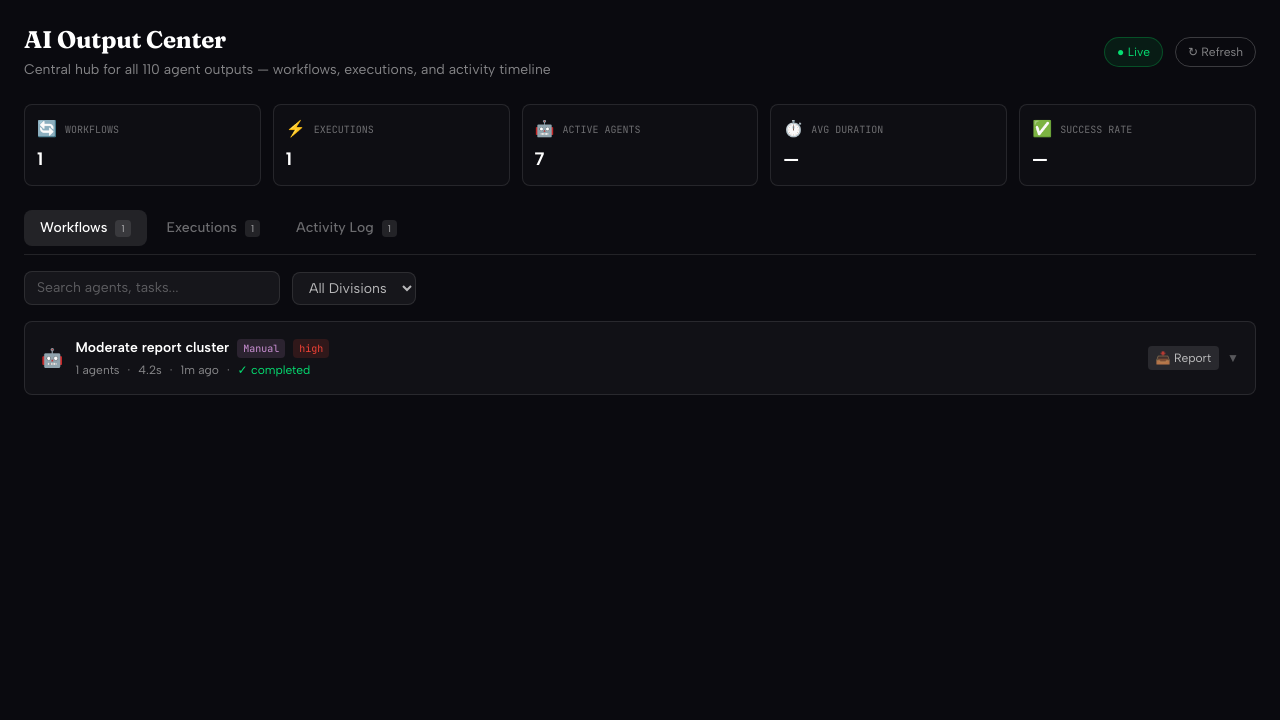
AgentOutputPage (AI Output Center) › expands a workflow to reveal classification, agents and LLM analysis
Click the text "Moderate report cluster" at (152, 348), box [76,338,229,358]
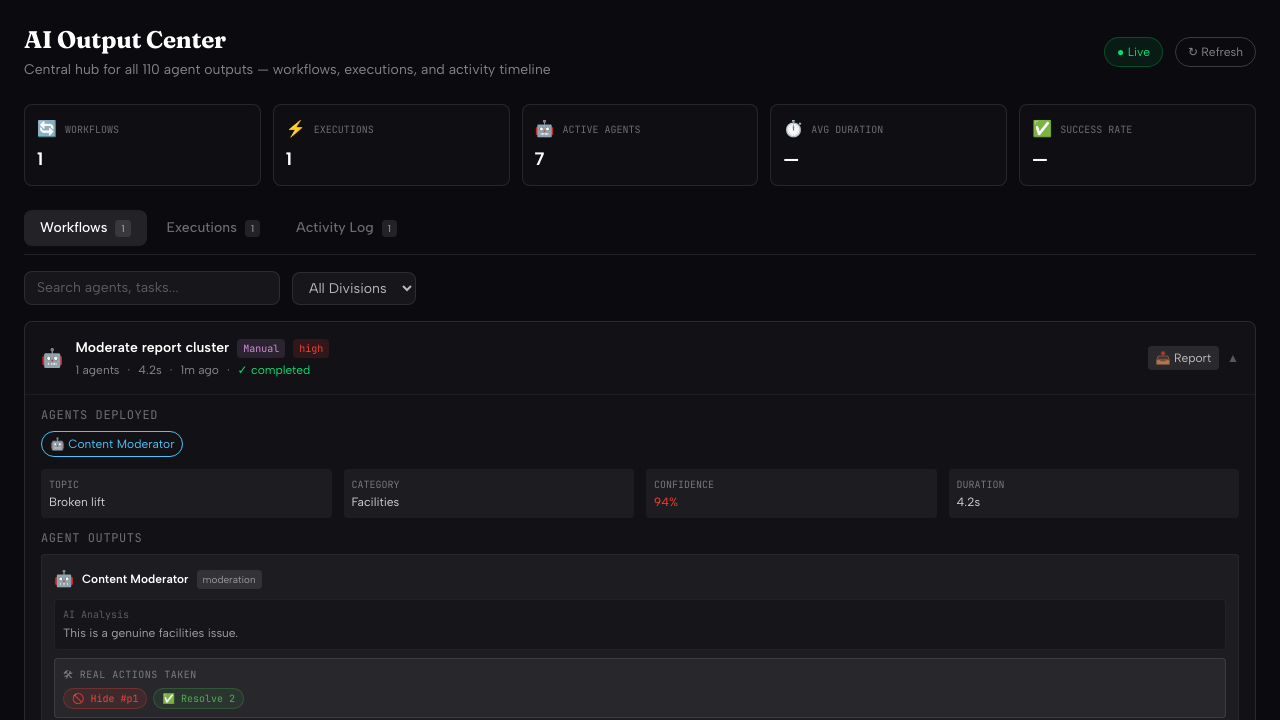
Result: the text "Agents Deployed" is shown at [41,407,158,423]
Result: the text "Content Moderator" is shown at [82,571,188,587]
Result: the text "Topic" is shown at [49,478,79,491]
